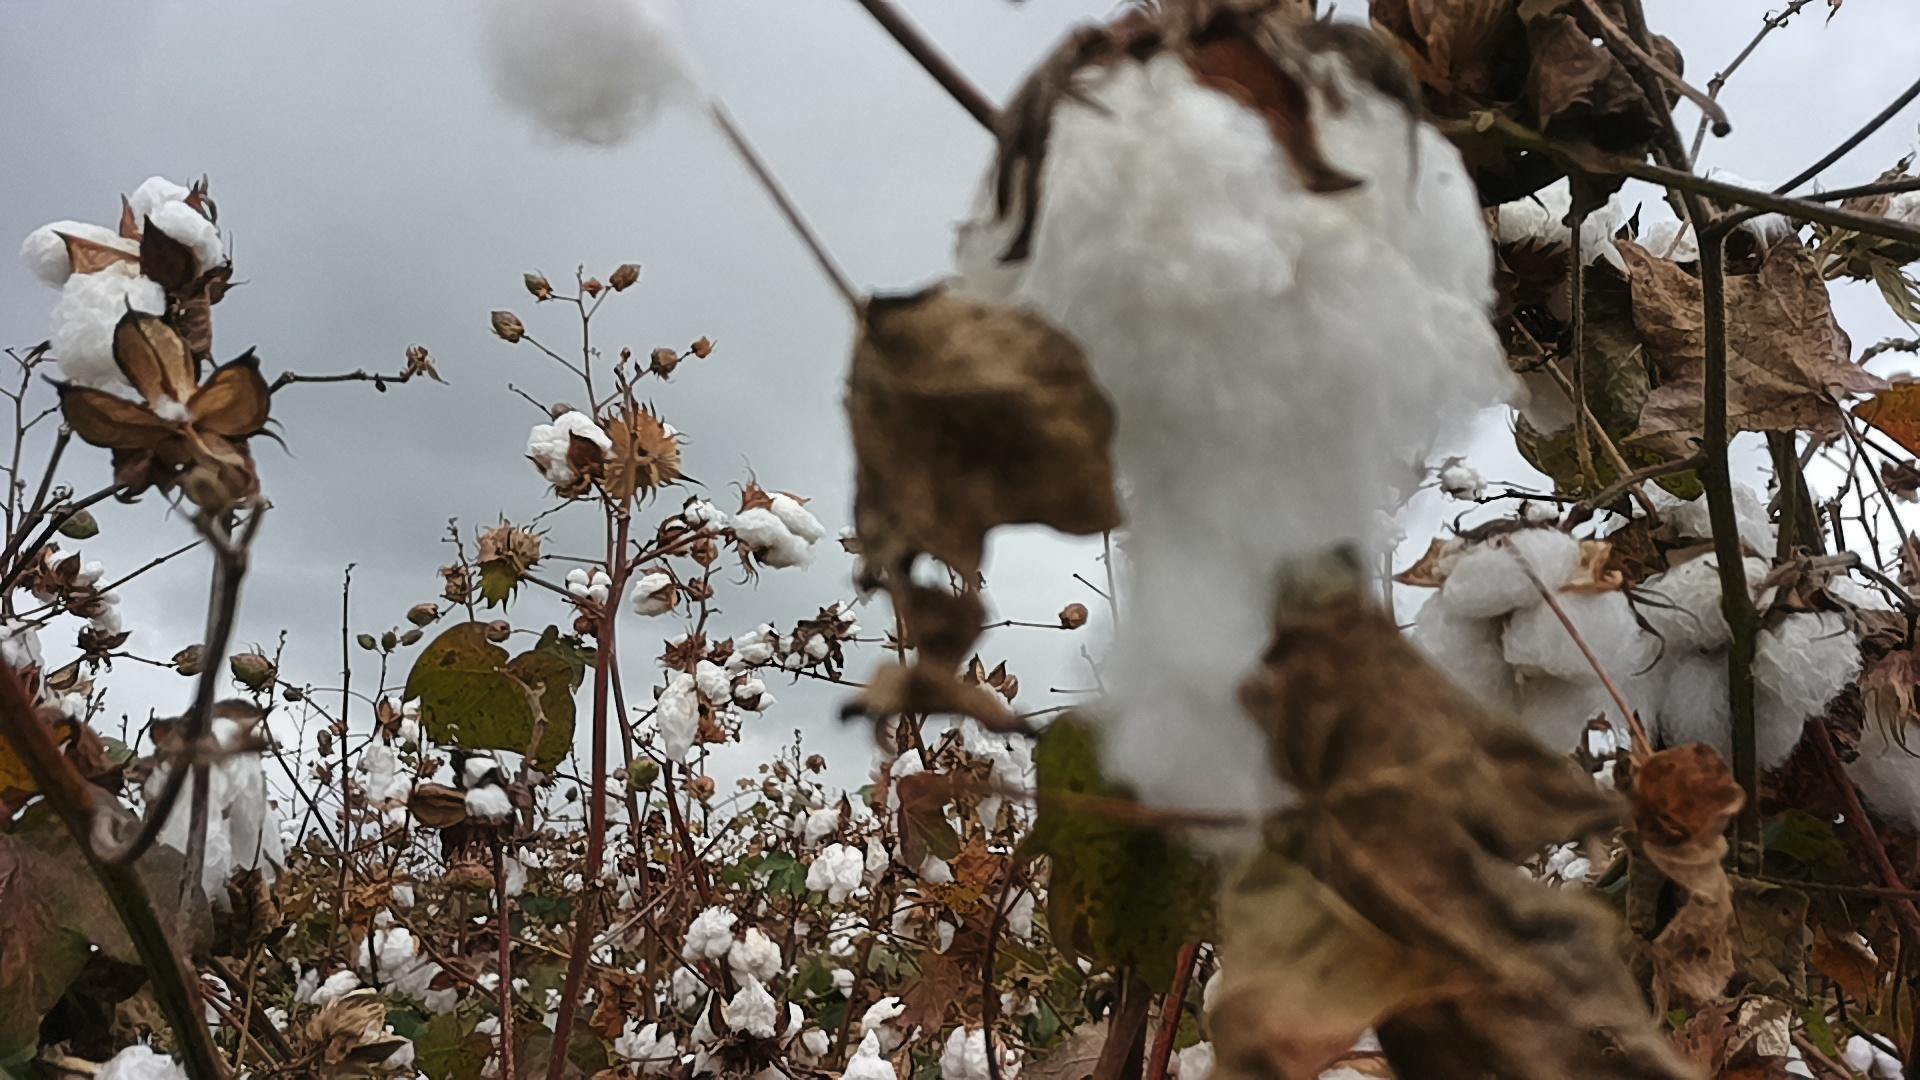cotton_ready: (949, 36, 1518, 829), (1622, 555, 1869, 786), (1416, 533, 1638, 758), (25, 173, 228, 396), (476, 0, 716, 158), (1487, 190, 1638, 435), (152, 713, 290, 895), (1844, 575, 1920, 841), (1607, 476, 1784, 571), (733, 491, 833, 574), (524, 411, 613, 491), (94, 1040, 193, 1080), (720, 976, 779, 1036), (680, 901, 736, 961), (729, 931, 779, 982)
